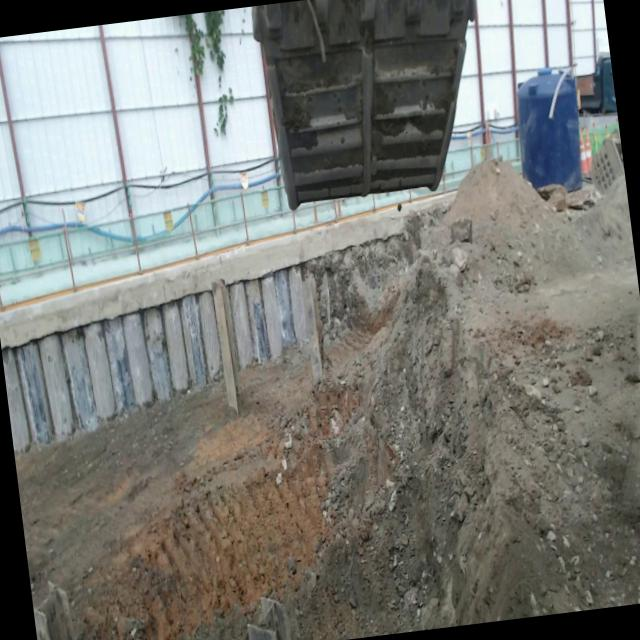red-sand: (15, 309, 462, 640)
